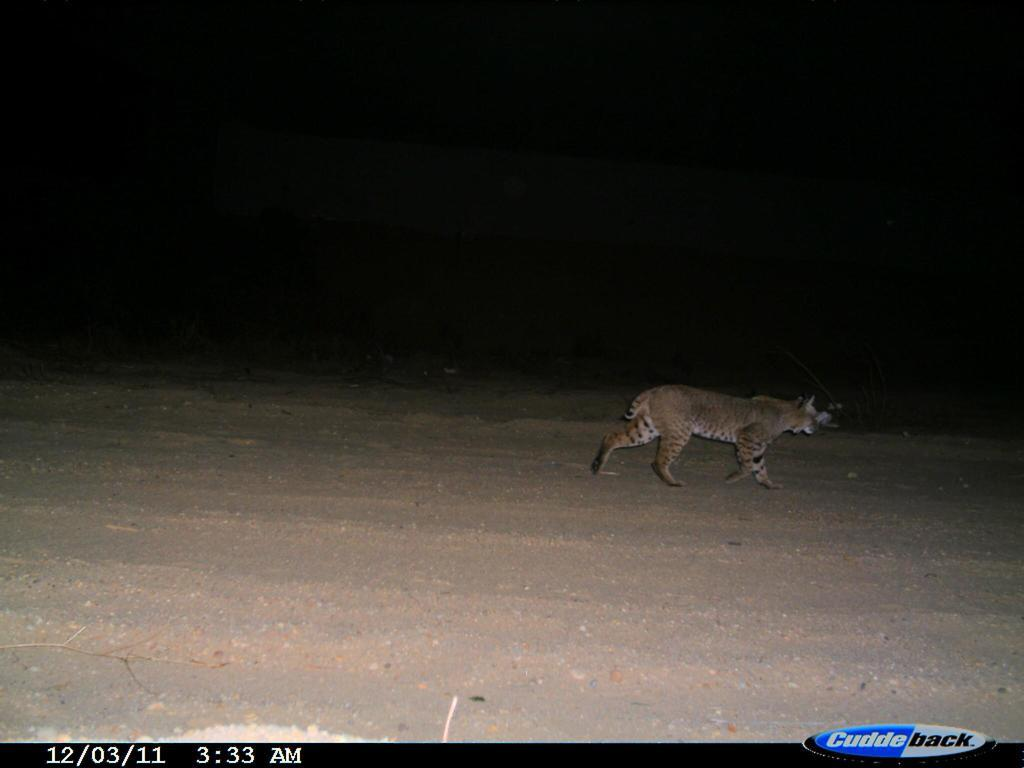bobcat: (591, 379, 831, 495)
